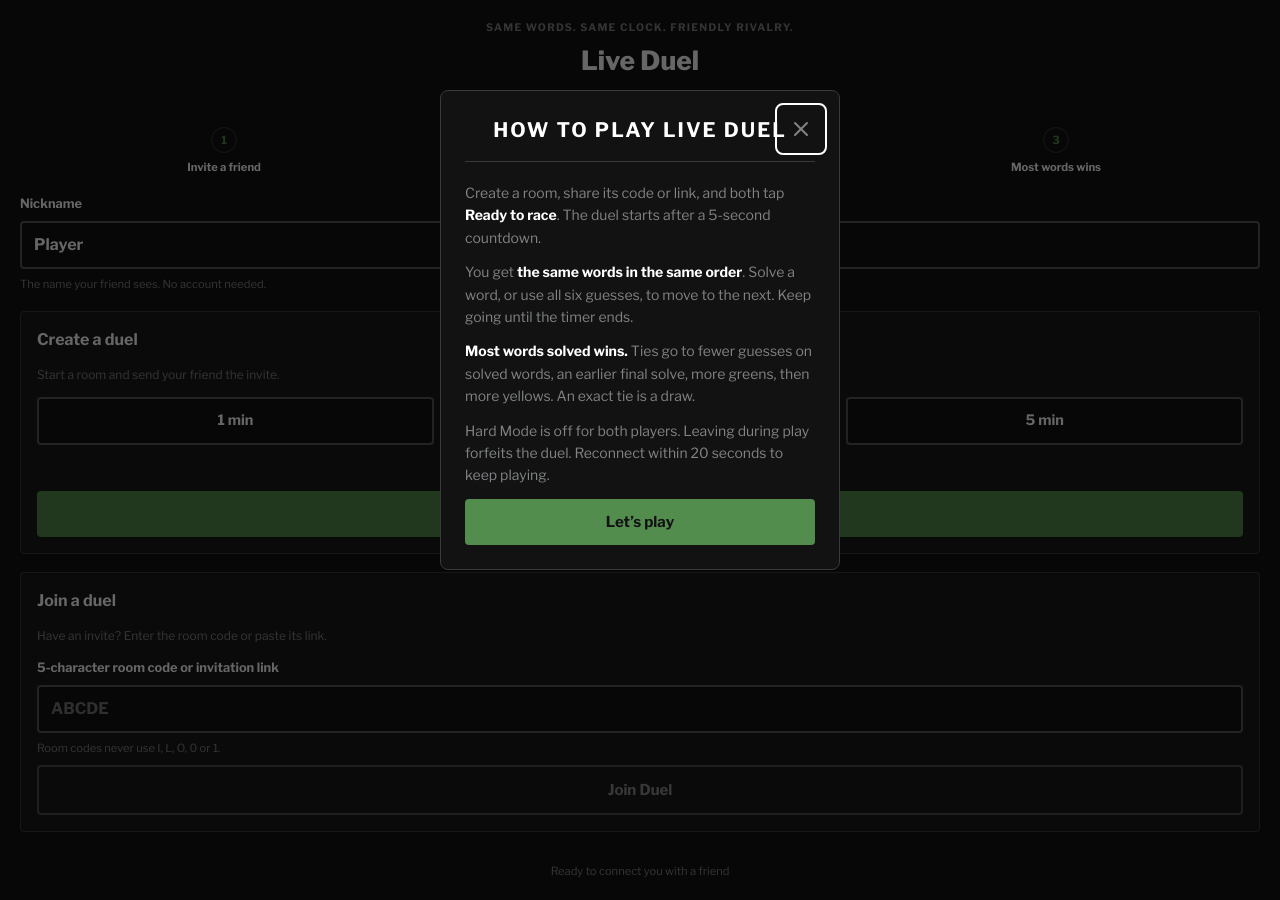
Test: Duel input and refresh regressions › keeps first-entry instructions inline and offers detailed help and shared Live Duel settings
The image size is (1280, 900).
Expected: the list named "How Live Duel works" shows "Invite a friend", [187,160,261,174]
Click the button "Let’s play" at (640, 522), box [465,499,815,545]
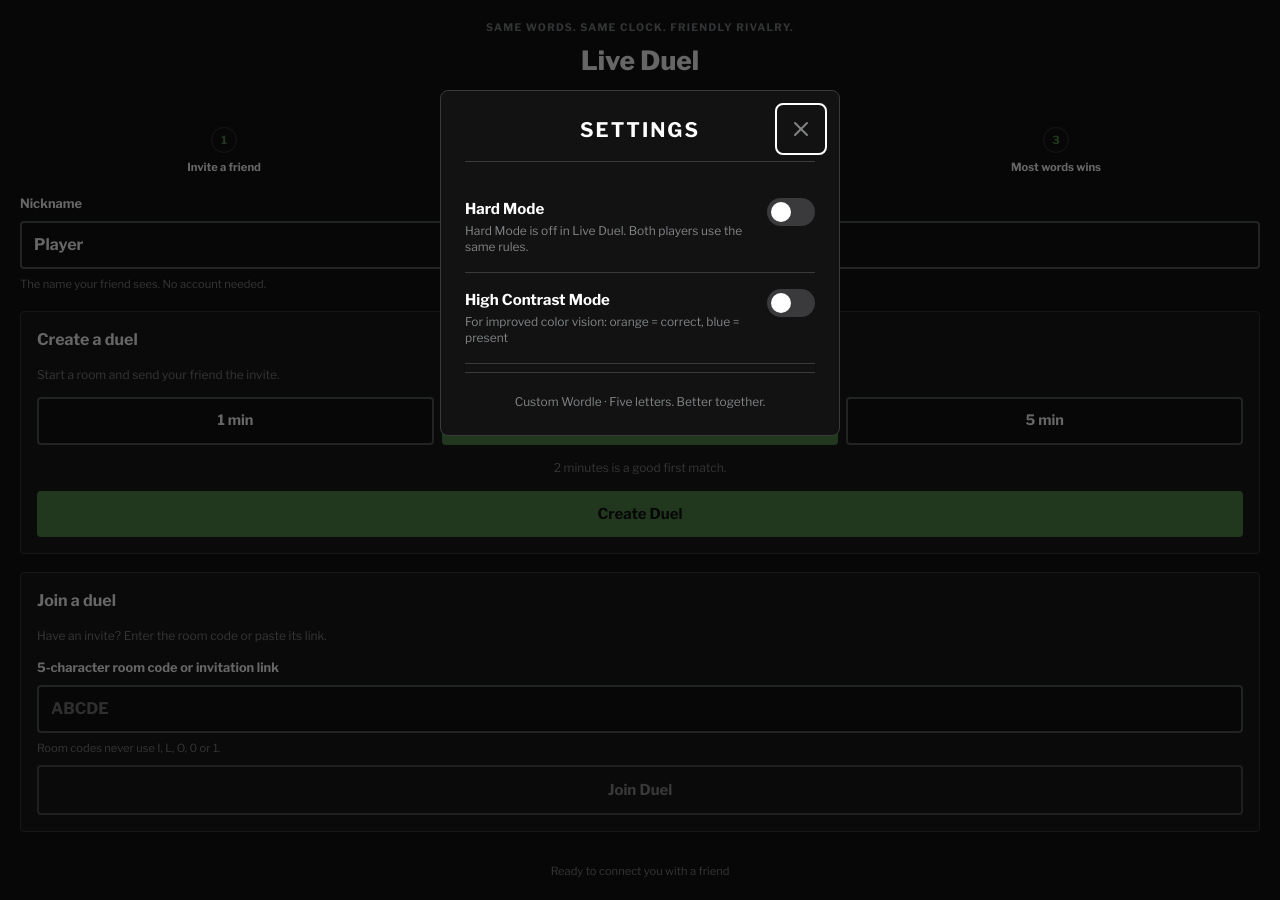
Now the text "Hard Mode is off in Live Duel. Both players use the same rules." is shown, box [465,222,751,256]
Now the checkbox named "Toggle hard mode" is disabled, box [767,198,815,226]
Now the checkbox named "Toggle hard mode" is not checked, box [767,198,815,226]
